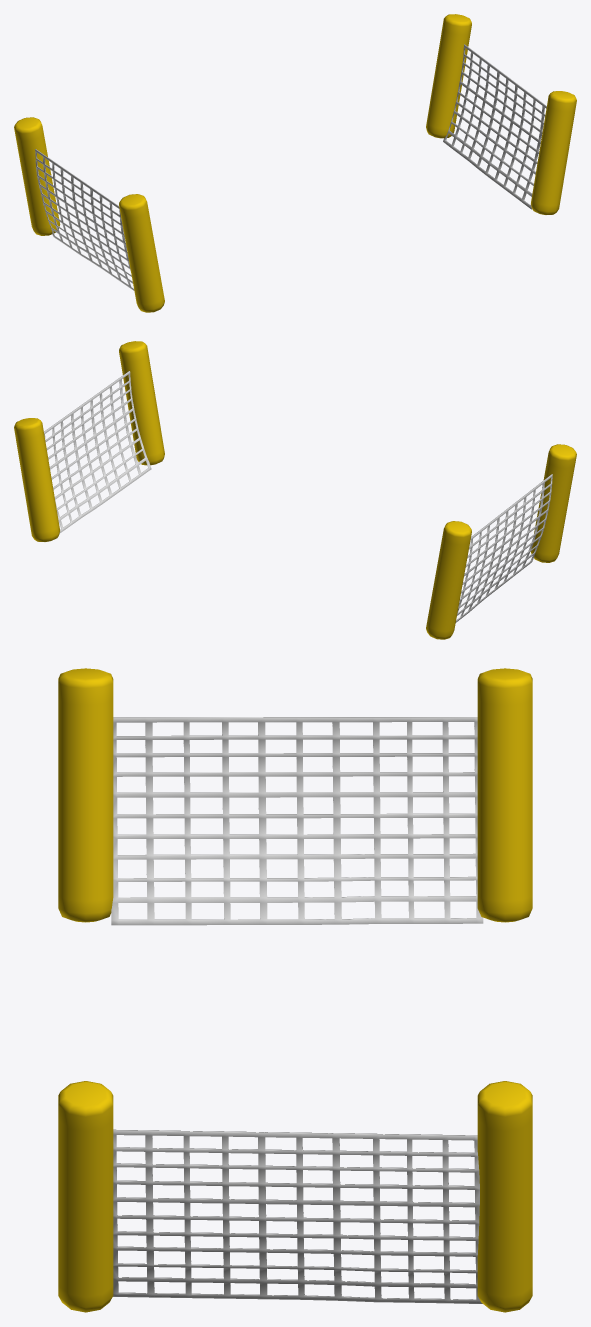
The model's file is redesLaterales.fbx.
3 views of the same model, one above another, from view 1: azimuth 30°, elevation 25°; view 2: azimuth 150°, elevation 25°; view 3: azimuth 270°, elevation 25° (orthographic). The views are drawn at different scales.
Parts seen in each view (by area): view 1: redesLaterales:polySurface1; view 2: redesLaterales:polySurface1; view 3: redesLaterales:polySurface1.
Part boxes in pixels (x1,y1,x2,y2): redesLaterales:polySurface1: (14, 14, 576, 312); redesLaterales:polySurface1: (14, 341, 576, 639); redesLaterales:polySurface1: (58, 668, 532, 1312).
Bounding box in the file's own units: 2992 × 733 × 1352.
